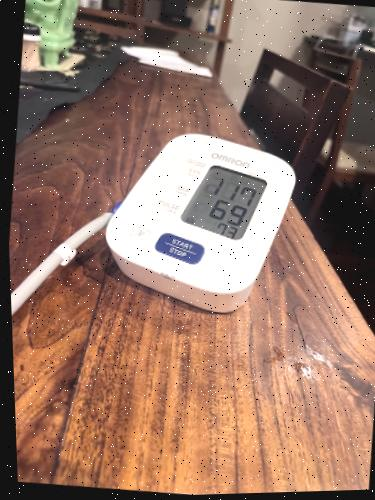bpm: (177, 157, 268, 245)
